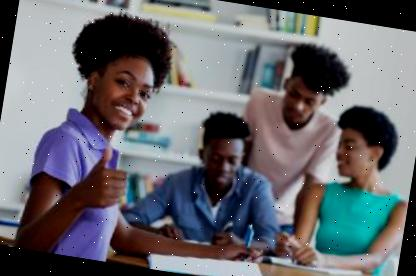person: (10, 0, 183, 267), (116, 92, 308, 274), (280, 89, 416, 276), (231, 26, 359, 188)
